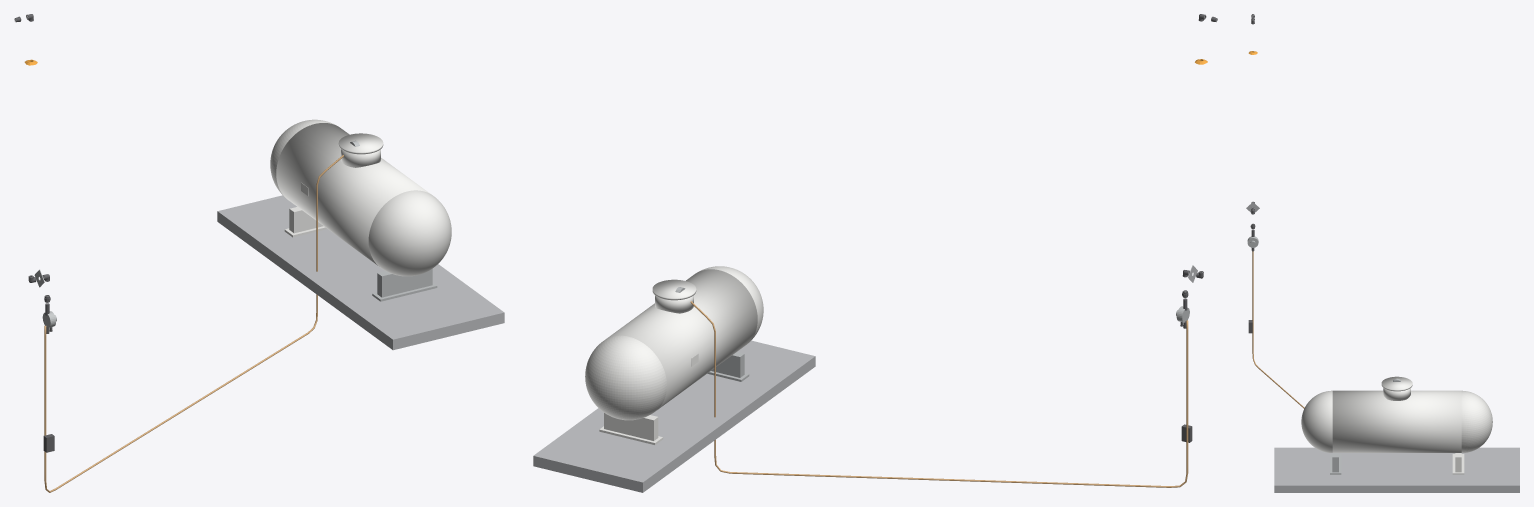
Rendered from pipes_gas__gas-propane.glb.
The picture shows the model from 3 angles, left to right: view 1: azimuth 30°, elevation 25°; view 2: azimuth 150°, elevation 25°; view 3: azimuth 270°, elevation 25°; orthographic projection. The views are drawn at different scales.
Visible parts, largest first — view 1: fix_propane_tank, pipe_gas_propane_service; view 2: fix_propane_tank, pipe_gas_propane_service; view 3: fix_propane_tank, pipe_gas_propane_service.
Part boxes in pixels (box(x1,y1,x2,y2)): fix_propane_tank: box(217, 119, 504, 350); pipe_gas_propane_service: box(44, 155, 343, 492); fix_propane_tank: box(533, 266, 815, 492); pipe_gas_propane_service: box(690, 301, 1188, 487); fix_propane_tank: box(1274, 376, 1519, 492); pipe_gas_propane_service: box(1252, 251, 1304, 408).
Size of the model in its own units: 4.98 by 4.58 by 3.34.
